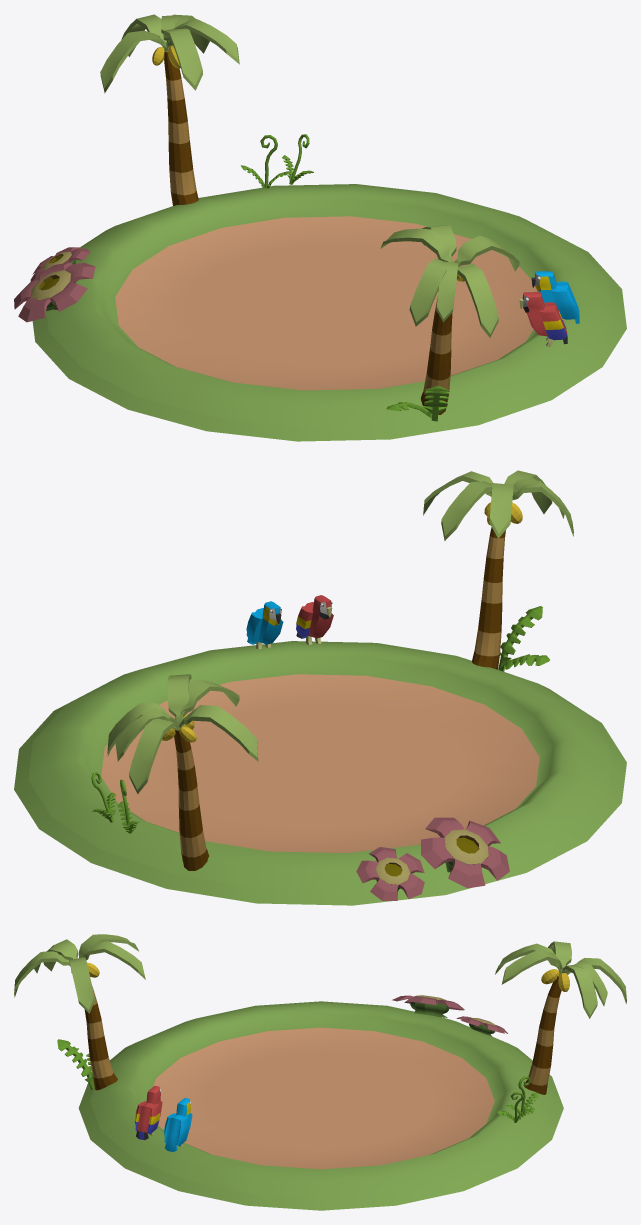
File: result_dodai.fbx
The picture shows the model from 3 angles, top to bottom: view 1: azimuth 30°, elevation 25°; view 2: azimuth 150°, elevation 25°; view 3: azimuth 270°, elevation 25°; orthographic projection. The views are drawn at different scales.
Parts seen in each view (by area): view 1: tree2:group2_pasted__pCube1; view 2: tree2:group2_pasted__pCube1; view 3: tree2:group2_pasted__pCube1.
Boxes of the visible parts, <box> form: tree2:group2_pasted__pCube1: <box>14,14,626,441</box>; tree2:group2_pasted__pCube1: <box>14,470,626,905</box>; tree2:group2_pasted__pCube1: <box>14,934,626,1210</box>.
Bounding box in the file's own units: 41.87 × 14.88 × 52.89.
